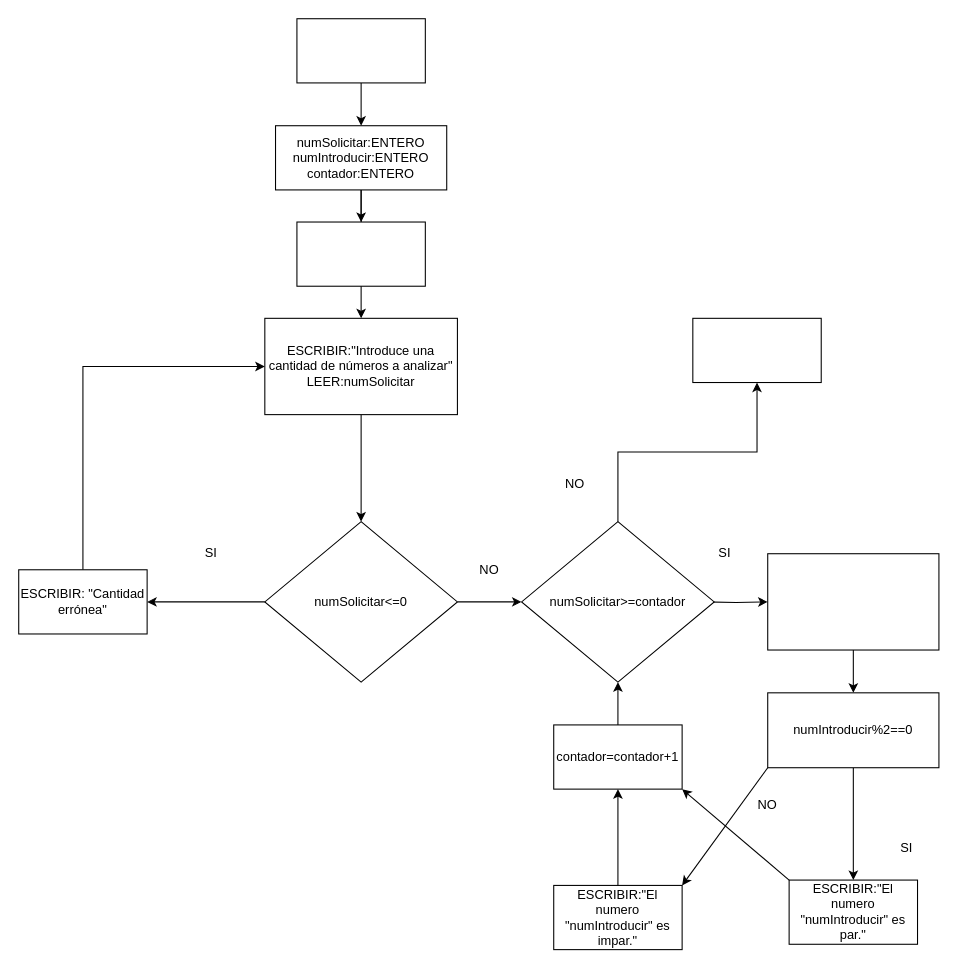
This 958x968 diagram has some shape labels left out. Each missing label, with the box of its shape:
contador<-0: (296, 221, 425, 286)
ESCRIBIR:"Introduce un numero y te diré si es par o no" LEER:numIntroducir: (767, 553, 939, 650)
FIN: (692, 317, 821, 383)
INICIO: (296, 18, 425, 83)
